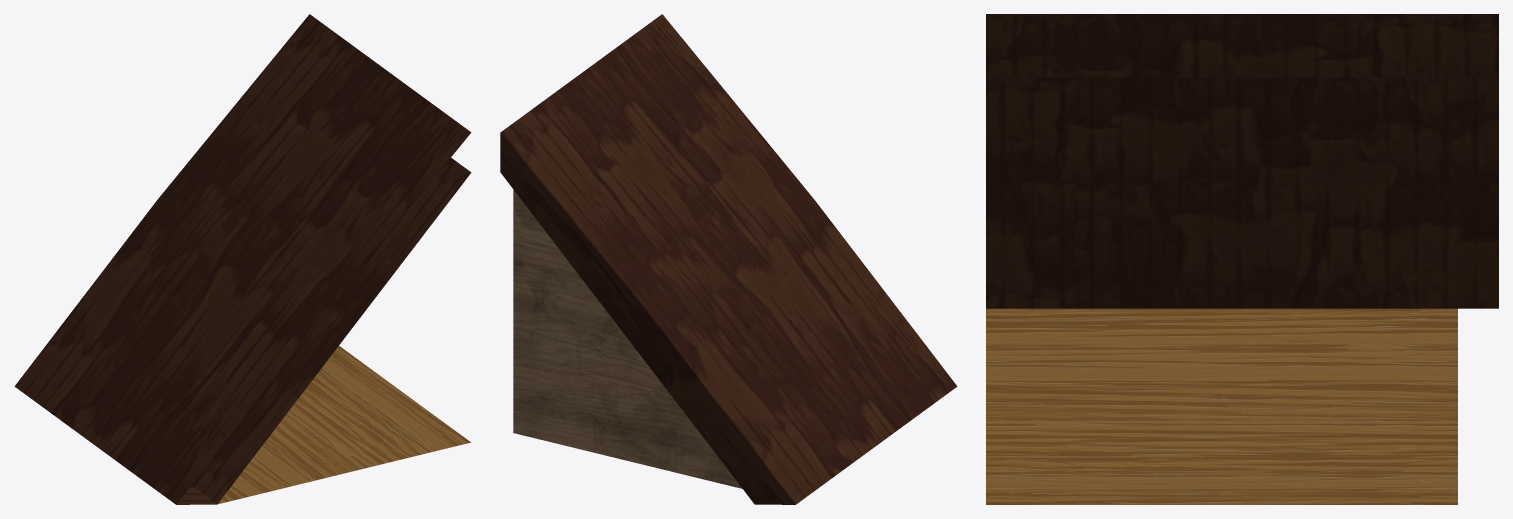
Rendered from roofSideFront.fbx.
3 renders of one model, left to right at view 1: azimuth 30°, elevation 25°; view 2: azimuth 150°, elevation 25°; view 3: azimuth 270°, elevation 25°, orthographic. The views are drawn at different scales.
Visible parts, largest first — view 1: roof, roofSide; view 2: roof, roofSide; view 3: roof, roofSide.
Boxes of the visible parts, bbox=[...] form: roof: bbox=[14, 14, 471, 504]; roofSide: bbox=[218, 346, 470, 504]; roof: bbox=[500, 14, 957, 504]; roofSide: bbox=[513, 189, 742, 488]; roof: bbox=[986, 14, 1498, 308]; roofSide: bbox=[986, 308, 1457, 504].
Bounding box in the file's own units: 229 × 230 × 217.
